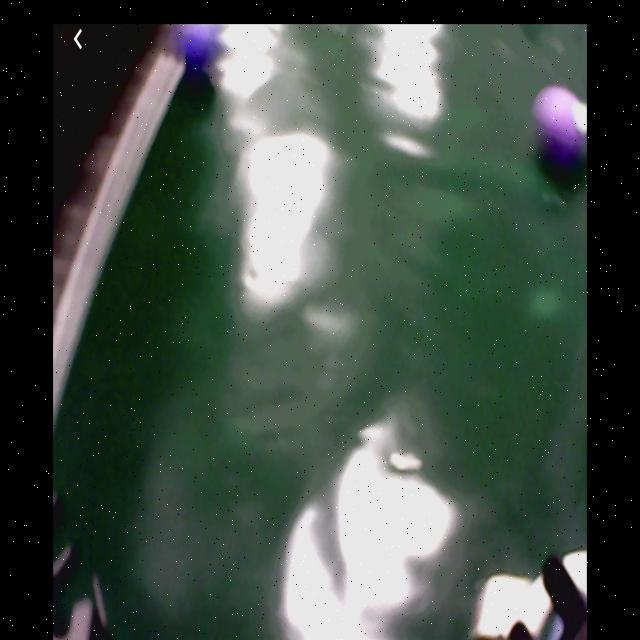ball: (536, 88, 584, 161), (176, 23, 220, 67)
